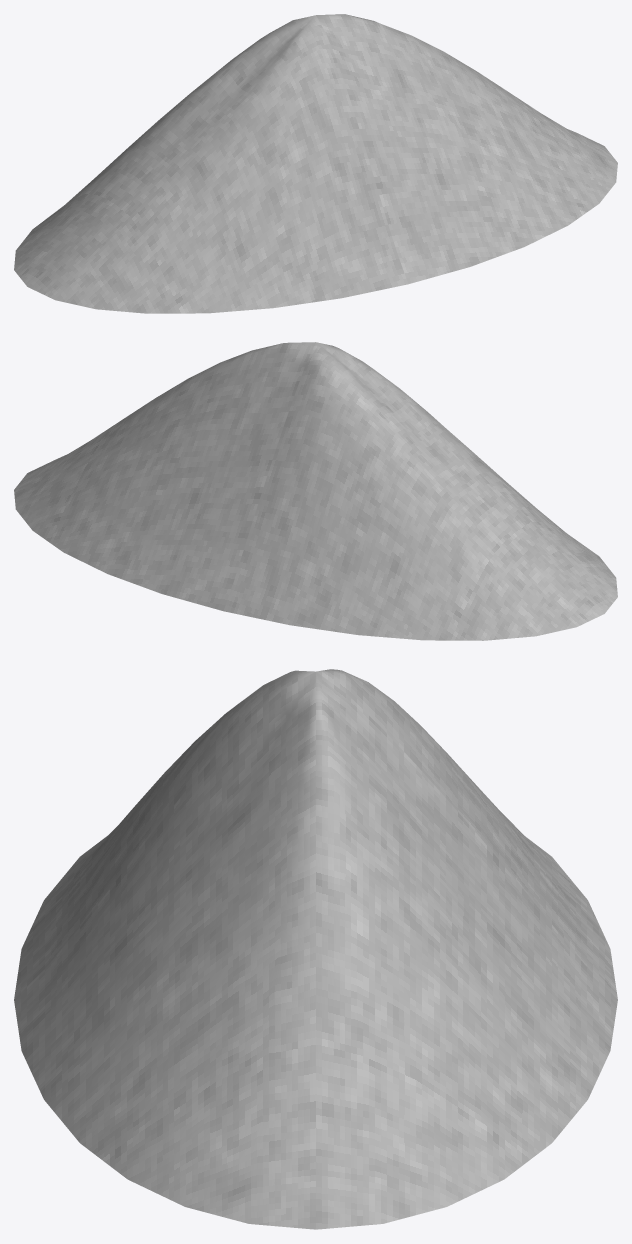
File: hromada_nakladu.glb
The picture shows the model from 3 angles, top to bottom: view 1: azimuth 30°, elevation 25°; view 2: azimuth 150°, elevation 25°; view 3: azimuth 270°, elevation 25°; orthographic projection. The views are drawn at different scales.
Visible parts, largest first — view 1: dum; view 2: dum; view 3: dum.
Part boxes in pixels (left/top/right/bottom): dum: left=14, top=14, right=617, bottom=313; dum: left=14, top=342, right=617, bottom=640; dum: left=14, top=669, right=617, bottom=1229.
Bounding box in the file's own units: 3.6 × 1.2 × 2.
1 material, 1 textured.
